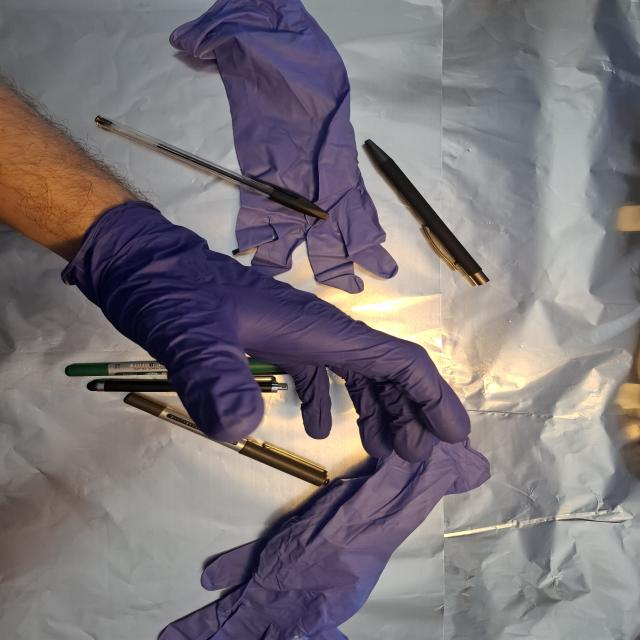glove_on: (66, 201, 475, 466)
